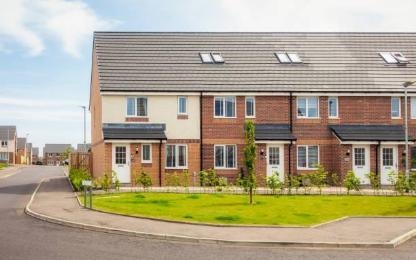door: (110, 141, 134, 189), (264, 141, 287, 191)
